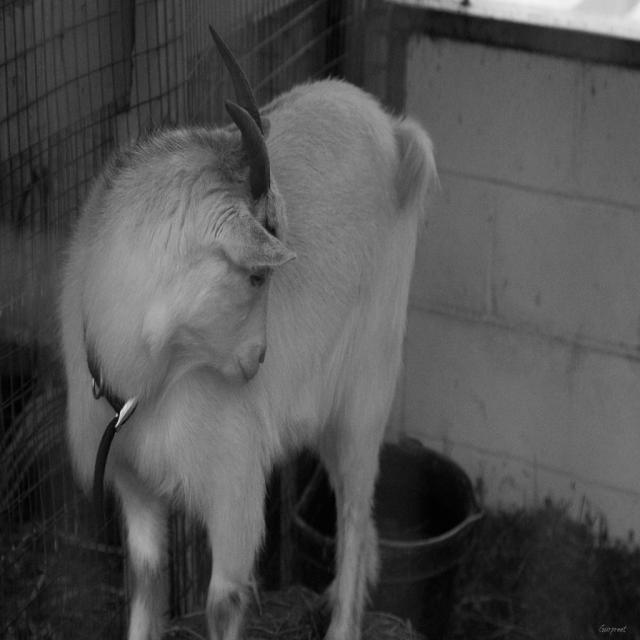Goat: (55, 21, 441, 637)
